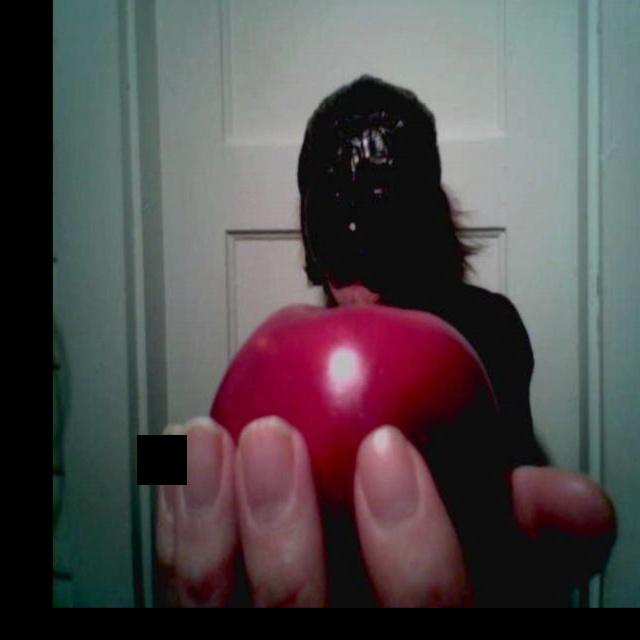red apple: (186, 301, 496, 514)
